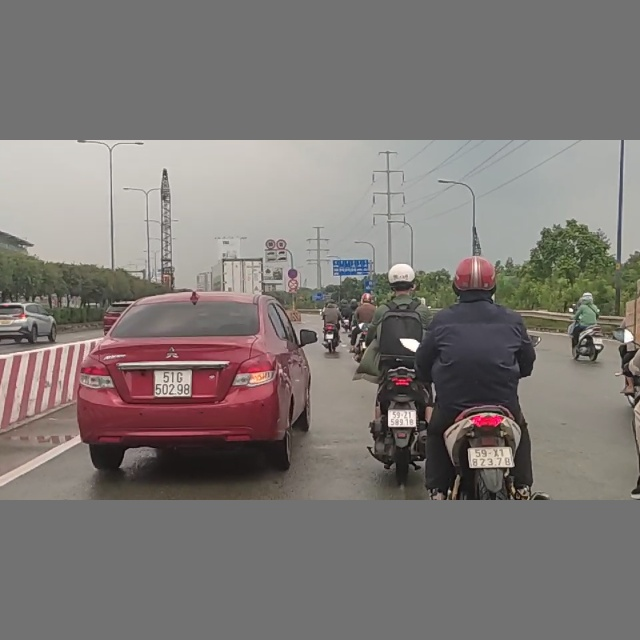P.130: (287, 268, 298, 279)
